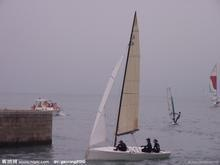fanchuan: (80, 9, 181, 162), (205, 61, 220, 111), (167, 86, 186, 125)
